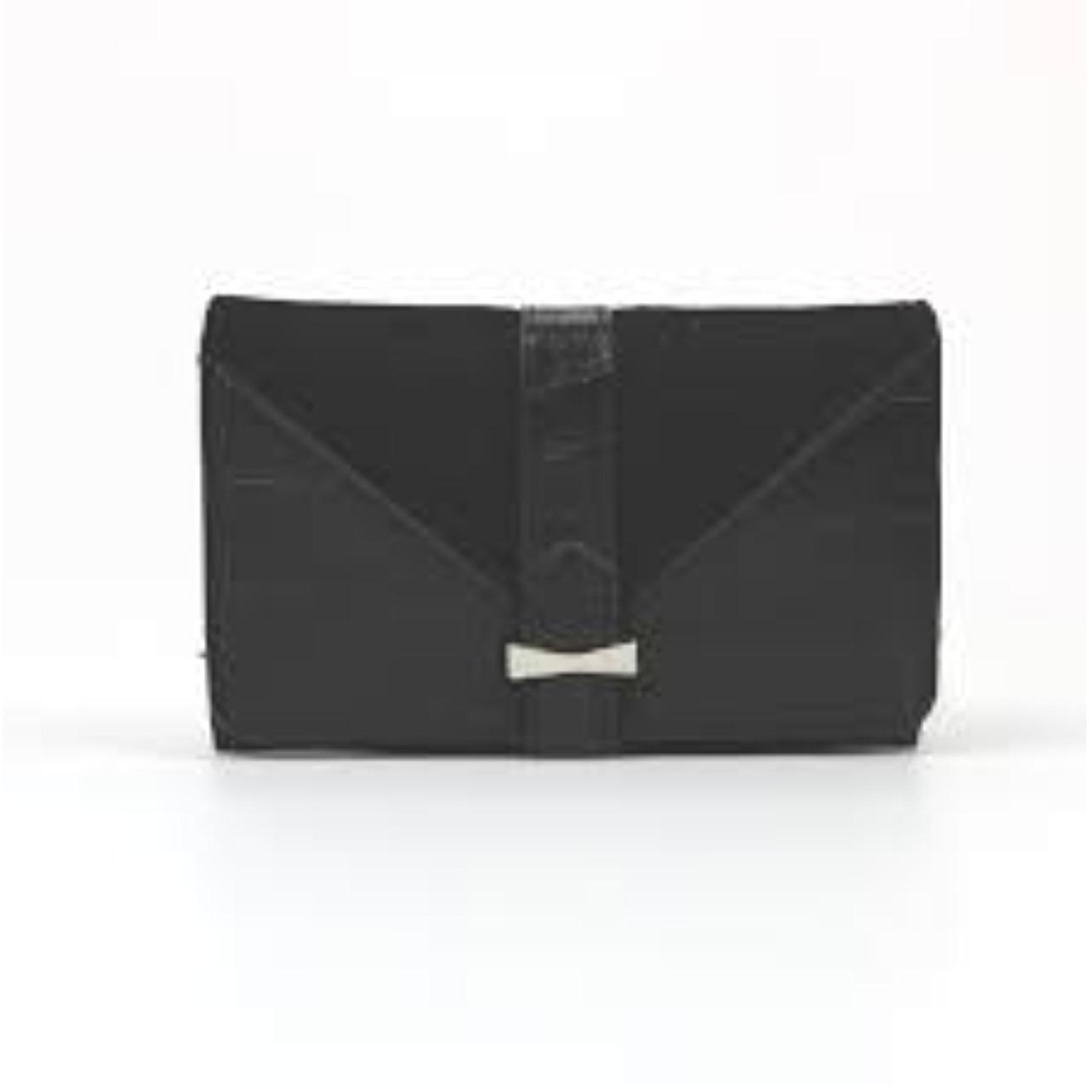wallet: (180, 284, 992, 781)
